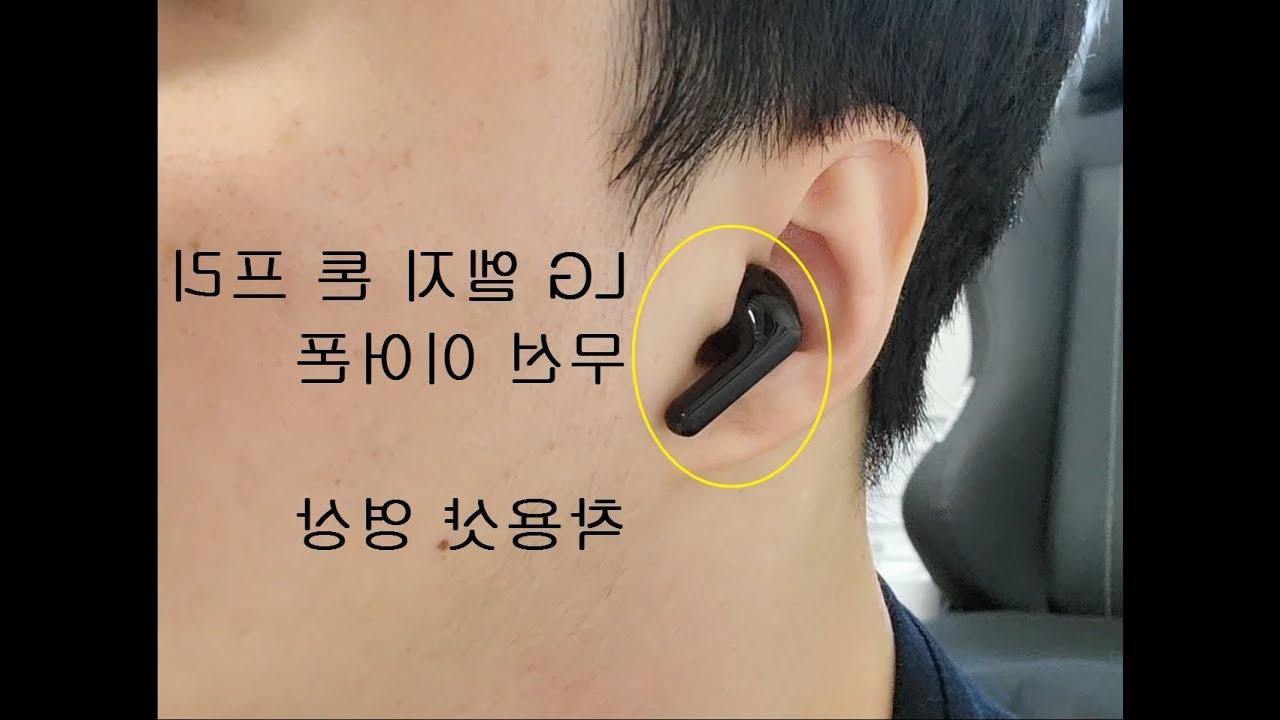earphone: (662, 103, 929, 467)
